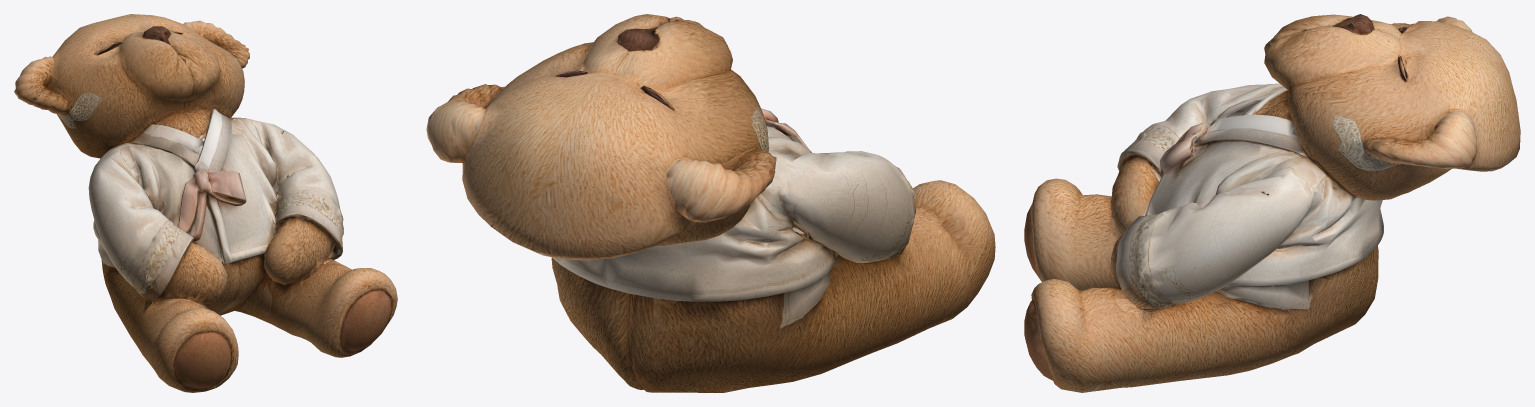
File: Toilet_bear.fbx
3 renders of one model, left to right at view 1: azimuth 30°, elevation 25°; view 2: azimuth 150°, elevation 25°; view 3: azimuth 270°, elevation 25°, orthographic. The views are drawn at different scales.
Visible parts, largest first — view 1: texture_mapping; view 2: texture_mapping; view 3: texture_mapping.
Boxes of the visible parts, <box> form: texture_mapping: <box>14,14,397,392</box>; texture_mapping: <box>426,14,995,392</box>; texture_mapping: <box>1024,14,1520,392</box>.
Size of the model in its own units: 0.7895 by 0.8254 by 1.15.
1 material, 1 textured.
